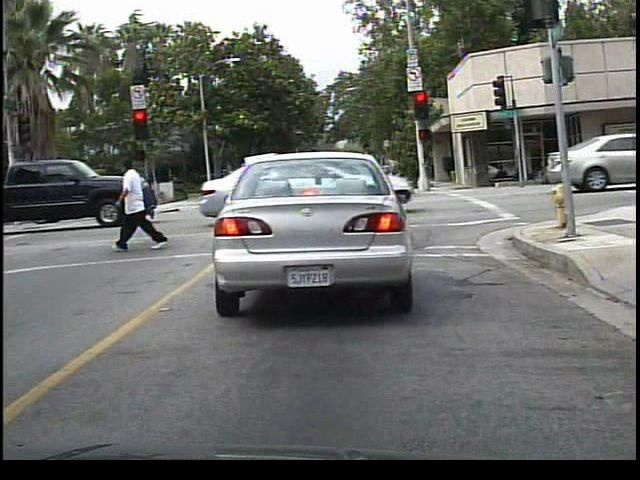person: (114, 151, 168, 252)
